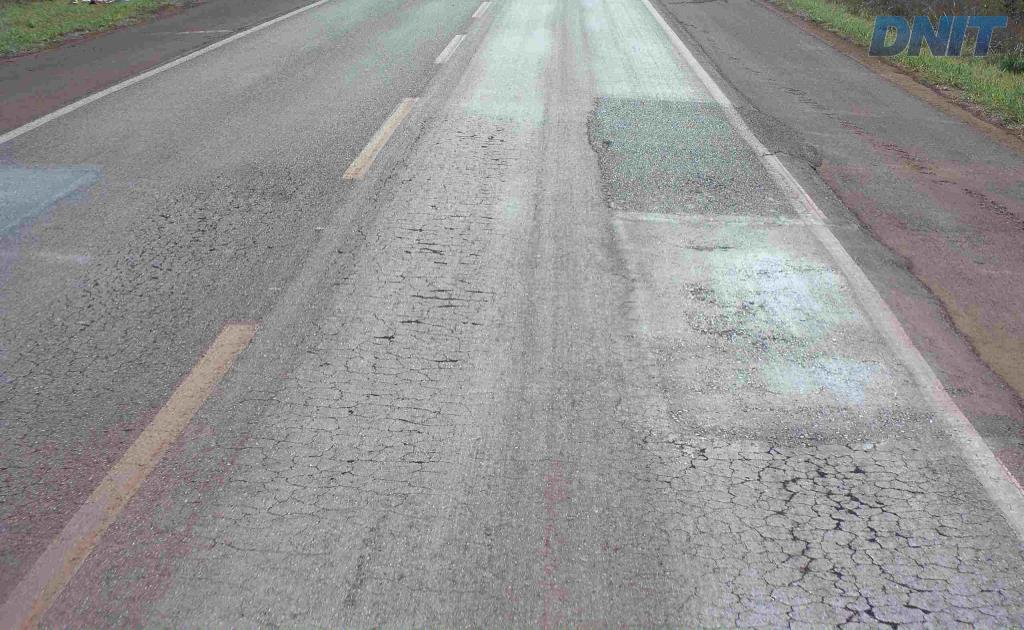crack: (763, 458, 921, 550), (780, 520, 819, 586), (294, 348, 332, 397)
